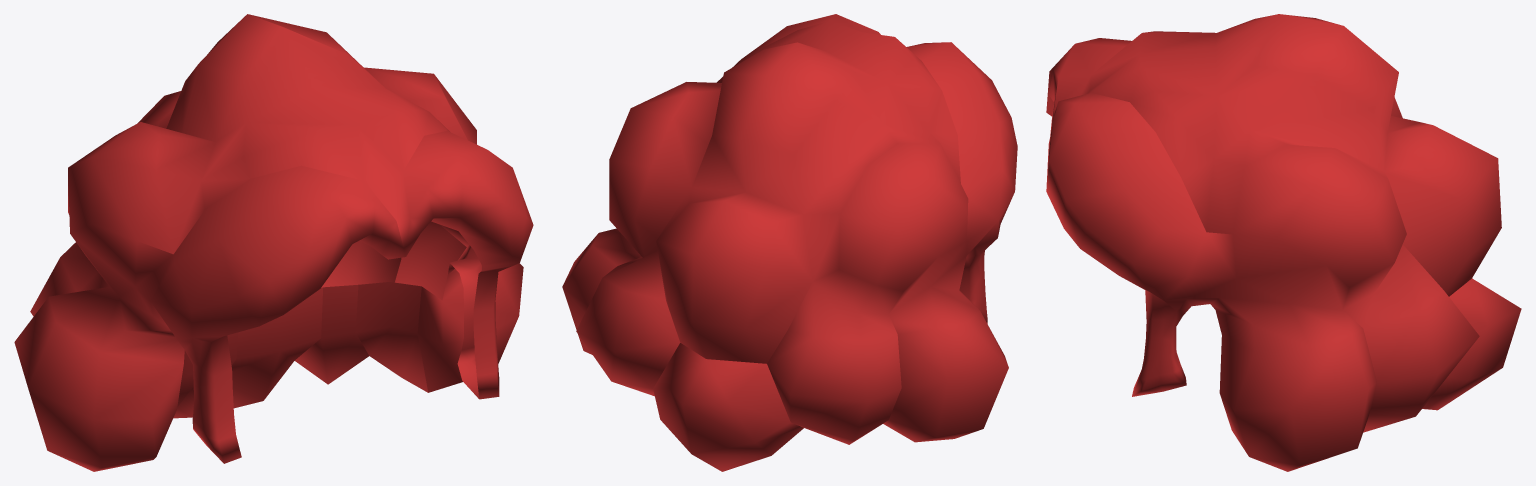
Rendered from Hair_Red_17.fbx.
3 views of the same model, side by side, from view 1: azimuth 30°, elevation 25°; view 2: azimuth 150°, elevation 25°; view 3: azimuth 270°, elevation 25° (orthographic). The views are drawn at different scales.
Parts seen in each view (by area): view 1: Hair_Red_17; view 2: Hair_Red_17; view 3: Hair_Red_17.
Part boxes in pixels (x1,y1,x2,y2): Hair_Red_17: (14,14,533,471); Hair_Red_17: (562,14,1017,471); Hair_Red_17: (1046,14,1521,471).
Size of the model in its own units: 85.16 by 70.13 by 76.23.
